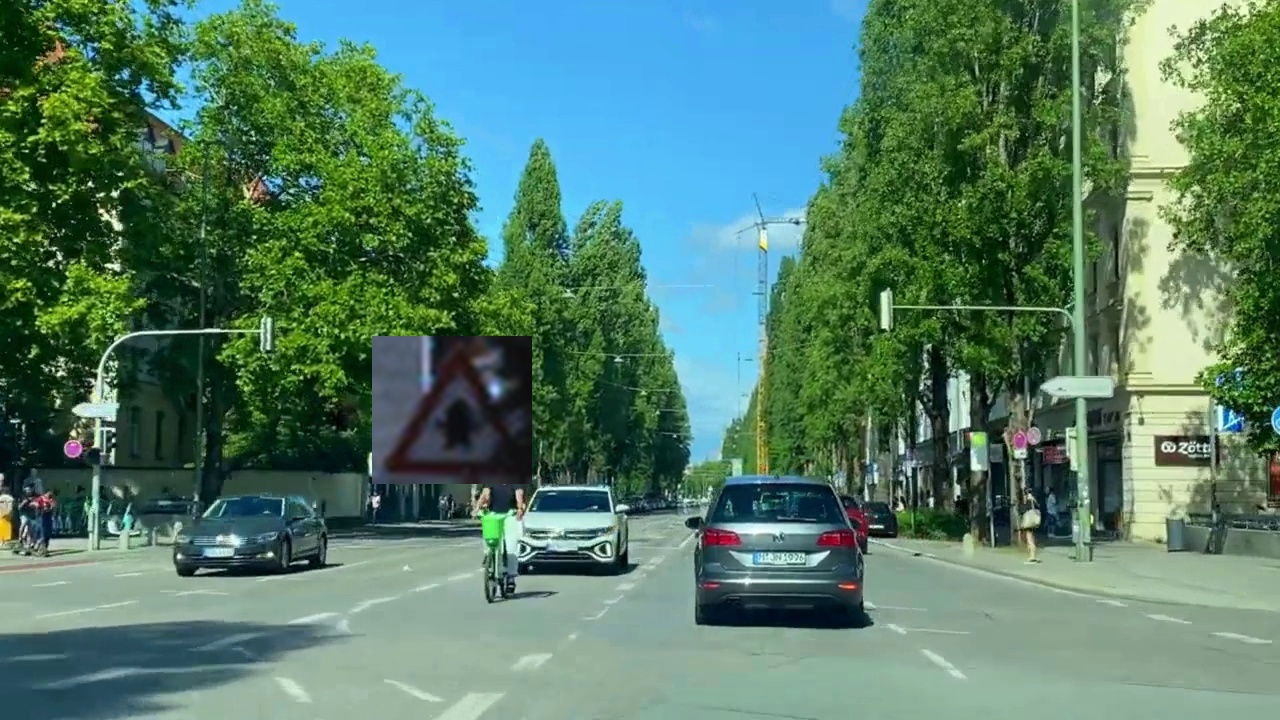Right-of-way: (372, 336, 532, 484)
